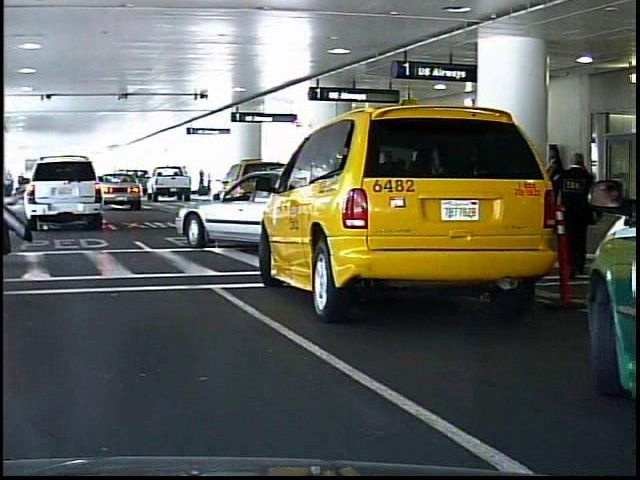person: (553, 149, 600, 276), (537, 142, 565, 242), (204, 168, 212, 197)
